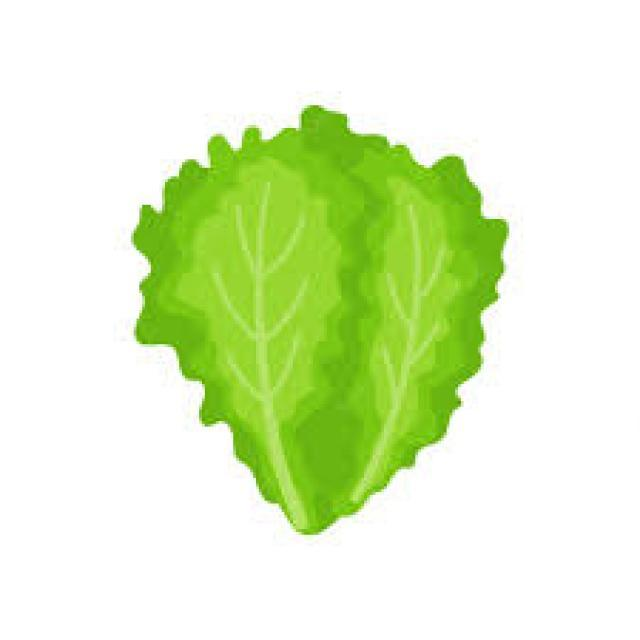Lettuce: (132, 96, 500, 542)
